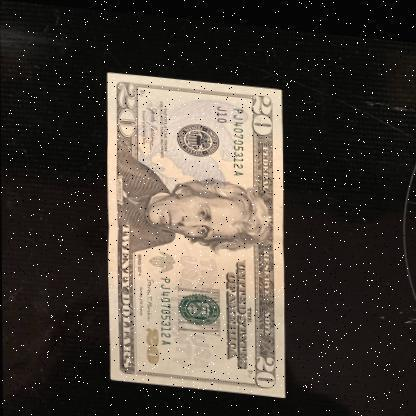dollar_front: (107, 69, 287, 394)
